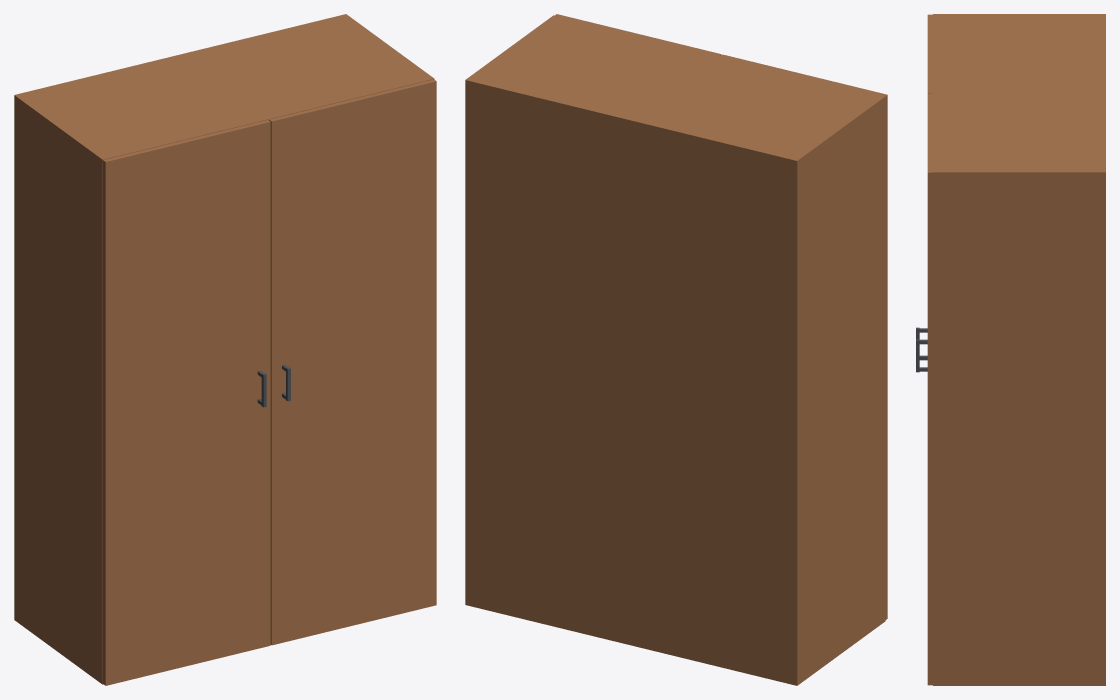
3 views of the same model, side by side, from view 1: azimuth 30°, elevation 25°; view 2: azimuth 150°, elevation 25°; view 3: azimuth 270°, elevation 25° (orthographic). The views are drawn at different scales.
Parts seen in each view (by area): view 1: panel_left, panel_right, side_left, top; view 2: back, side_left, top, side_right, panel_left, bottom; view 3: side_right, top, panel_right, side_left, panel_left.
Boxes of the visible parts, x1,y1,x2,y2 form: panel_left: (103,120,270,685); panel_right: (269,79,436,645); side_left: (14,94,106,684); top: (19,15,429,158); back: (469,86,792,679); side_left: (792,95,885,685); top: (469,16,880,164); side_right: (465,15,557,605); panel_left: (721,54,887,619); bottom: (469,601,792,684); side_right: (933,170,1105,685); top: (933,16,1105,170); panel_right: (927,94,932,685); side_left: (933,14,1105,16); panel_left: (927,14,932,93).
Bounding box in the file's own units: 1.29 × 1.95 × 0.6522.
